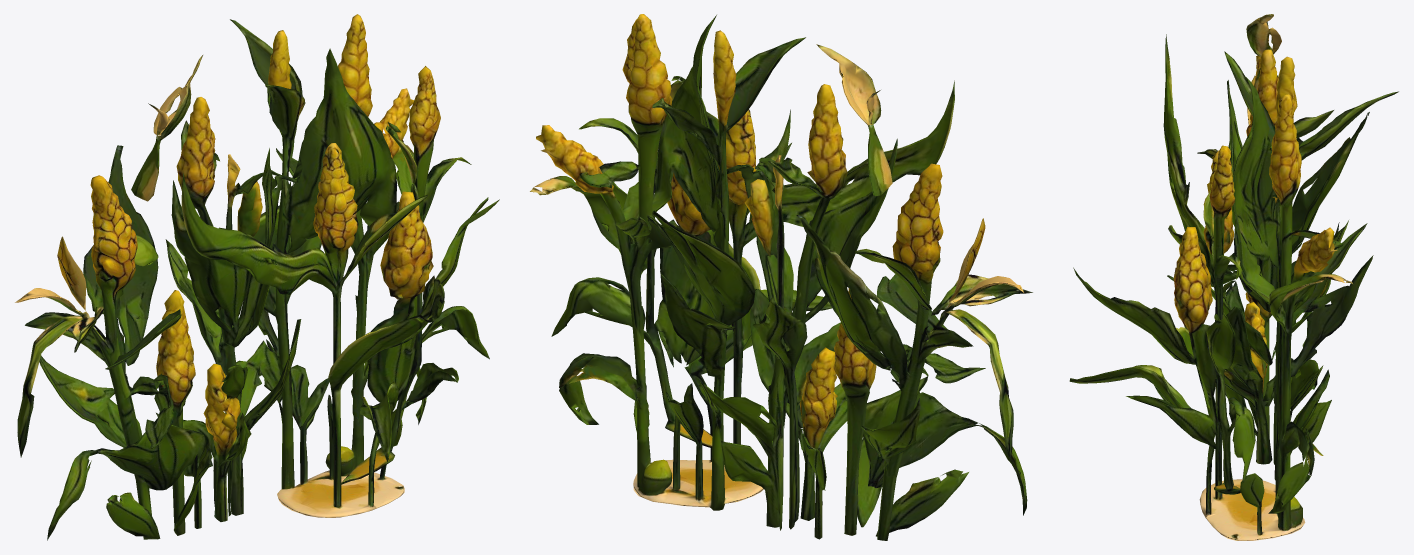
Rendered from mais.glb.
The picture shows the model from 3 angles, left to right: view 1: azimuth 30°, elevation 25°; view 2: azimuth 150°, elevation 25°; view 3: azimuth 270°, elevation 25°; orthographic projection. The views are drawn at different scales.
Visible parts, largest first — view 1: tripo_node_509bea86-752f-43c1-b929-8490d34b724e; view 2: tripo_node_509bea86-752f-43c1-b929-8490d34b724e; view 3: tripo_node_509bea86-752f-43c1-b929-8490d34b724e.
Part boxes in pixels (box(x1,y1,x2,y2)): tripo_node_509bea86-752f-43c1-b929-8490d34b724e: box(15, 14, 499, 540); tripo_node_509bea86-752f-43c1-b929-8490d34b724e: box(530, 14, 1032, 540); tripo_node_509bea86-752f-43c1-b929-8490d34b724e: box(1069, 14, 1398, 540).
Bounding box in the file's own units: 0.9975 × 0.9697 × 0.6571.
1 material, 1 textured.
